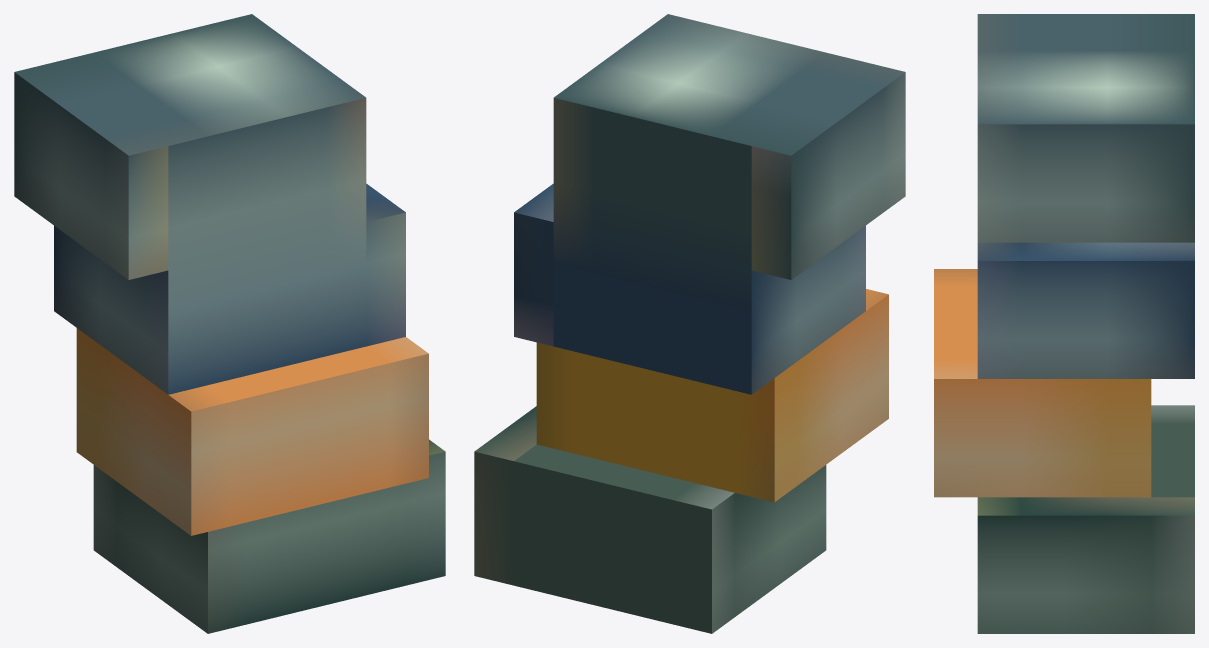
Rendered from BookStackTaller_B_02.fbx.
3 renders of one model, left to right at view 1: azimuth 30°, elevation 25°; view 2: azimuth 150°, elevation 25°; view 3: azimuth 270°, elevation 25°, orthographic. The views are drawn at different scales.
Parts seen in each view (by area): view 1: BookStackTaller_B_02; view 2: BookStackTaller_B_02; view 3: BookStackTaller_B_02.
Part boxes in pixels (left/top/right/bottom): BookStackTaller_B_02: left=14, top=14, right=445, bottom=633; BookStackTaller_B_02: left=474, top=14, right=905, bottom=633; BookStackTaller_B_02: left=934, top=14, right=1194, bottom=633.
Bounding box in the file's own units: 40 × 30 × 60.
Materials: 1 (1 with a texture image).
